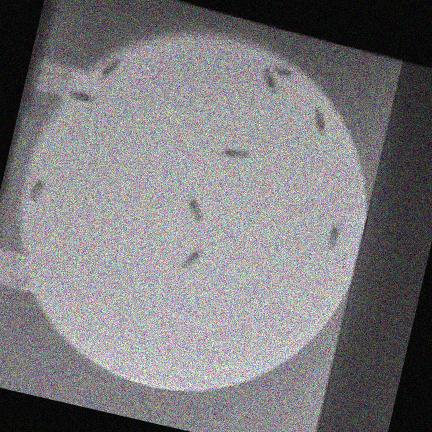fly: (101, 58, 120, 79), (189, 195, 203, 221), (182, 249, 202, 267), (29, 180, 46, 201), (263, 68, 277, 93), (69, 91, 96, 103), (315, 108, 327, 134), (222, 147, 250, 158), (328, 225, 340, 249), (274, 64, 294, 78)
